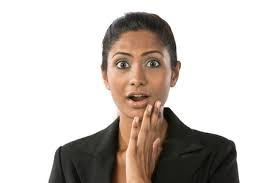s.black: (146, 71, 166, 100)
